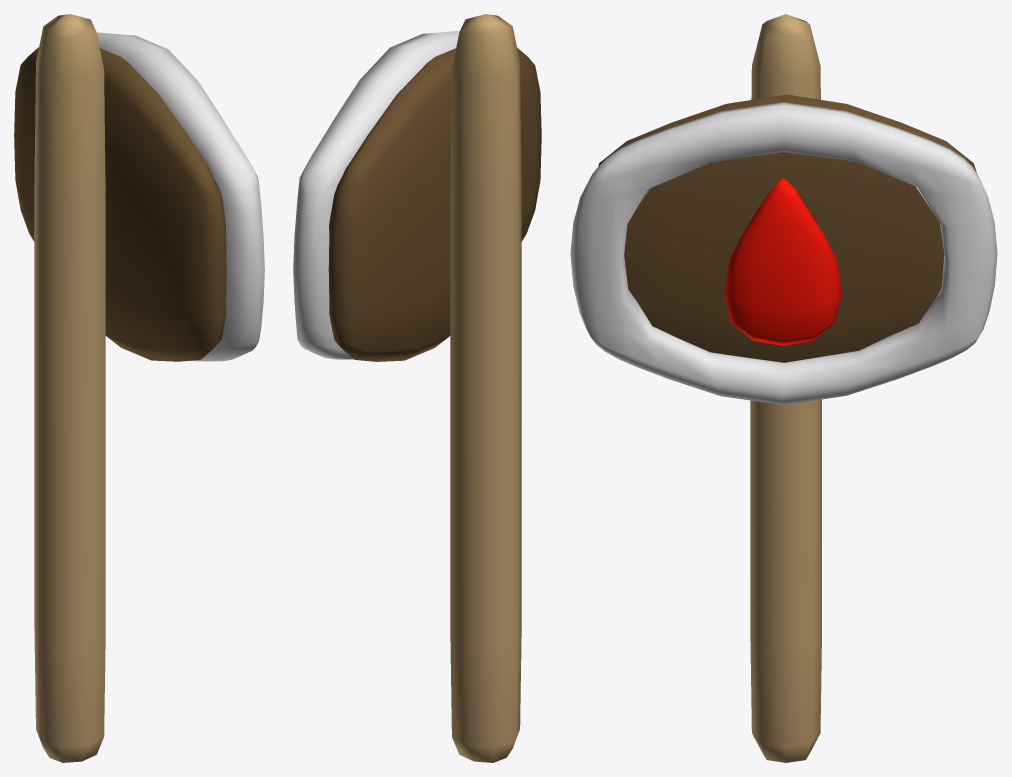
Rendered from panneau_abreuvoir.fbx.
3 views of the same model, side by side, from view 1: azimuth 30°, elevation 25°; view 2: azimuth 150°, elevation 25°; view 3: azimuth 270°, elevation 25° (orthographic).
Visible parts, largest first — view 1: Cube.035; view 2: Cube.035; view 3: Cube.035.
Boxes of the visible parts, x1,y1,x2,y2 form: Cube.035: [14, 14, 264, 762]; Cube.035: [293, 14, 541, 762]; Cube.035: [570, 14, 997, 762].
Size of the model in its own units: 61.04 by 301 by 157.
